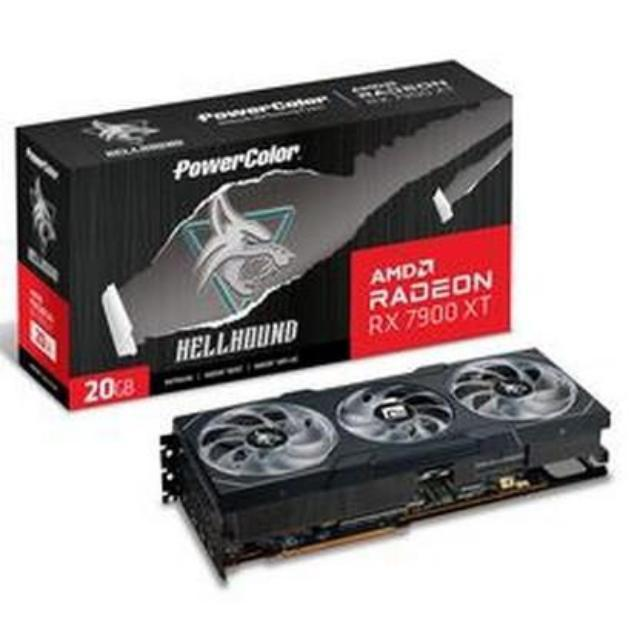GPU: (144, 347, 610, 578)
